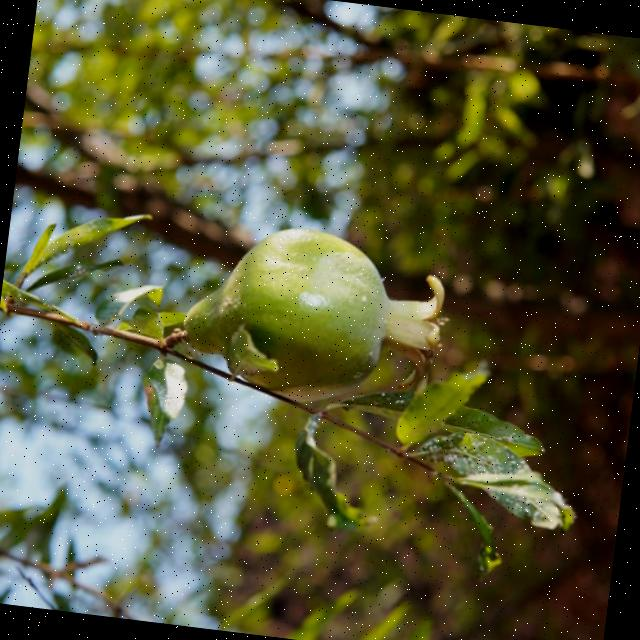Unripe: (174, 210, 457, 418)
